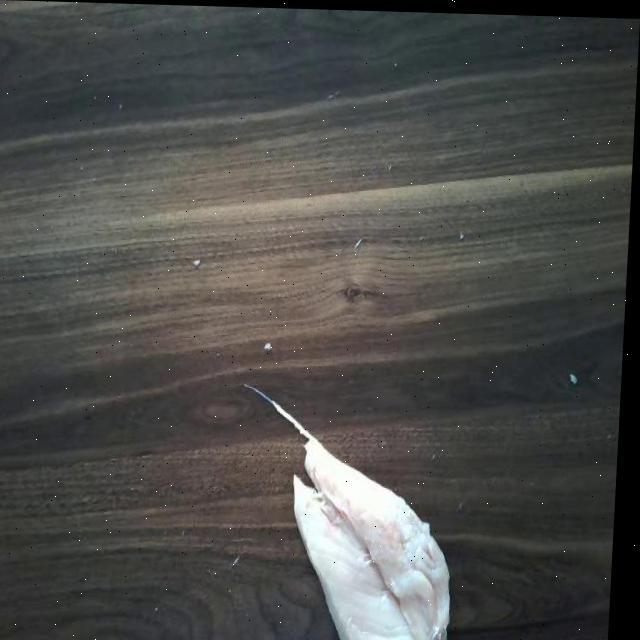breast: (275, 431, 472, 640)
